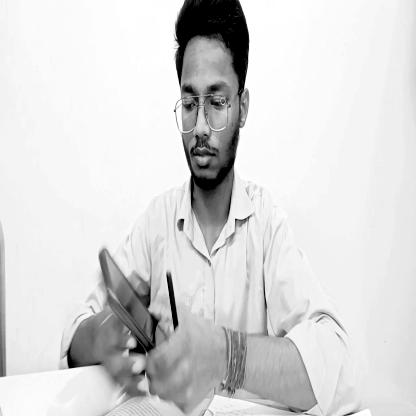Distracted: (173, 2, 254, 191)
